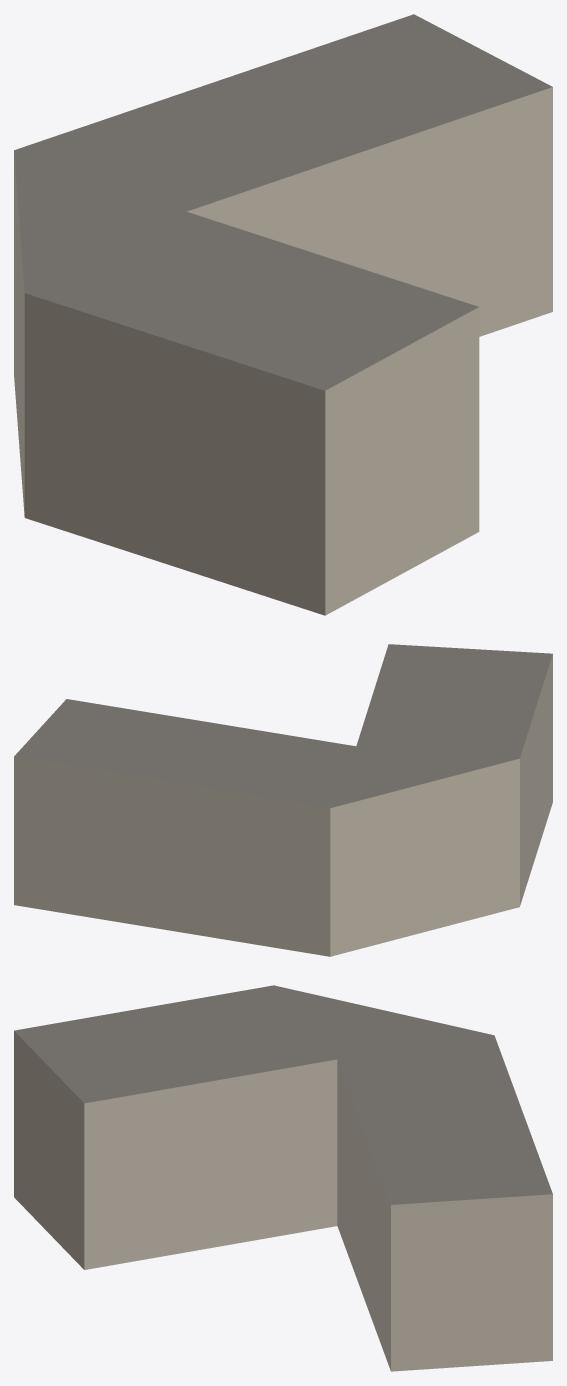
3 renders of one model, top to bottom at view 1: azimuth 30°, elevation 25°; view 2: azimuth 150°, elevation 25°; view 3: azimuth 270°, elevation 25°, orthographic. The views are drawn at different scales.
Visible parts, largest first — view 1: HP-w859488807; view 2: HP-w859488807; view 3: HP-w859488807.
Part boxes in pixels (left/top/right/bottom): HP-w859488807: left=14, top=14, right=552, bottom=615; HP-w859488807: left=14, top=644, right=552, bottom=956; HP-w859488807: left=14, top=985, right=552, bottom=1371.
Bounding box in the file's own units: 50.86 × 18 × 52.75.
